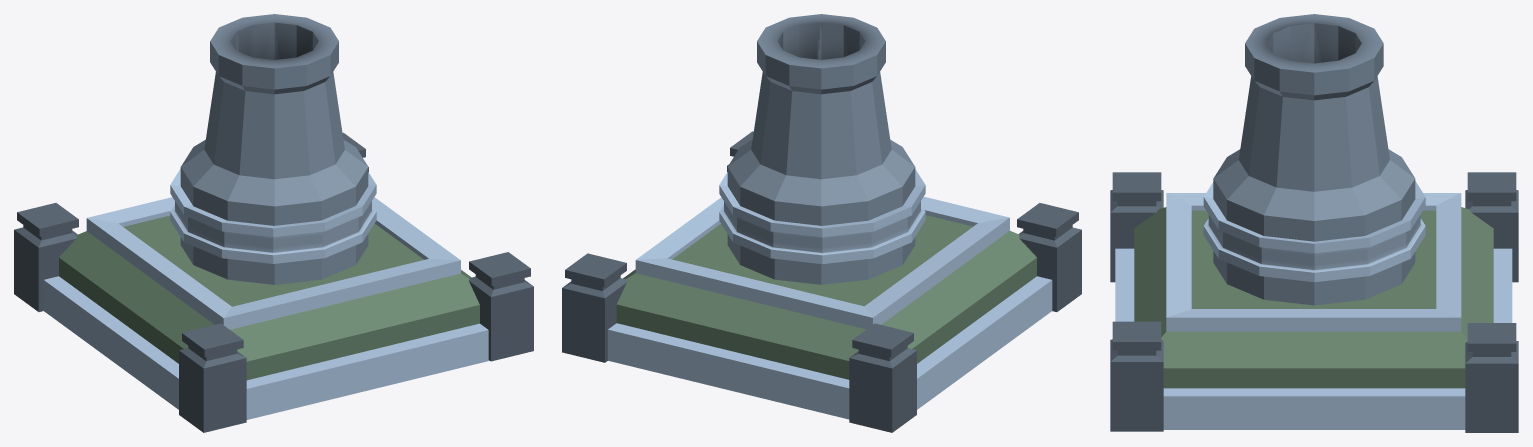
File: Torres mortier2.fbx
3 renders of one model, left to right at view 1: azimuth 30°, elevation 25°; view 2: azimuth 150°, elevation 25°; view 3: azimuth 270°, elevation 25°, orthographic. The views are drawn at different scales.
Visible parts, largest first — view 1: Tour 2; view 2: Tour 2; view 3: Tour 2.
Boxes of the visible parts, x1=… form: Tour 2: x1=14, y1=14, x2=533, y2=432; Tour 2: x1=562, y1=14, x2=1081, y2=432; Tour 2: x1=1110, y1=14, x2=1518, y2=432.
Bounding box in the file's own units: 3.93 × 3.21 × 3.91.
